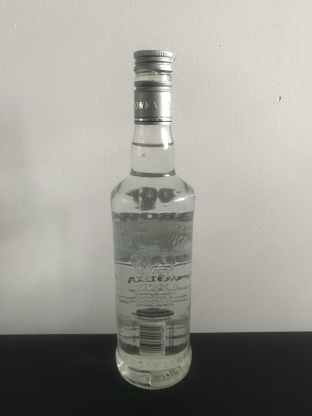nakretka: (133, 49, 174, 126)
